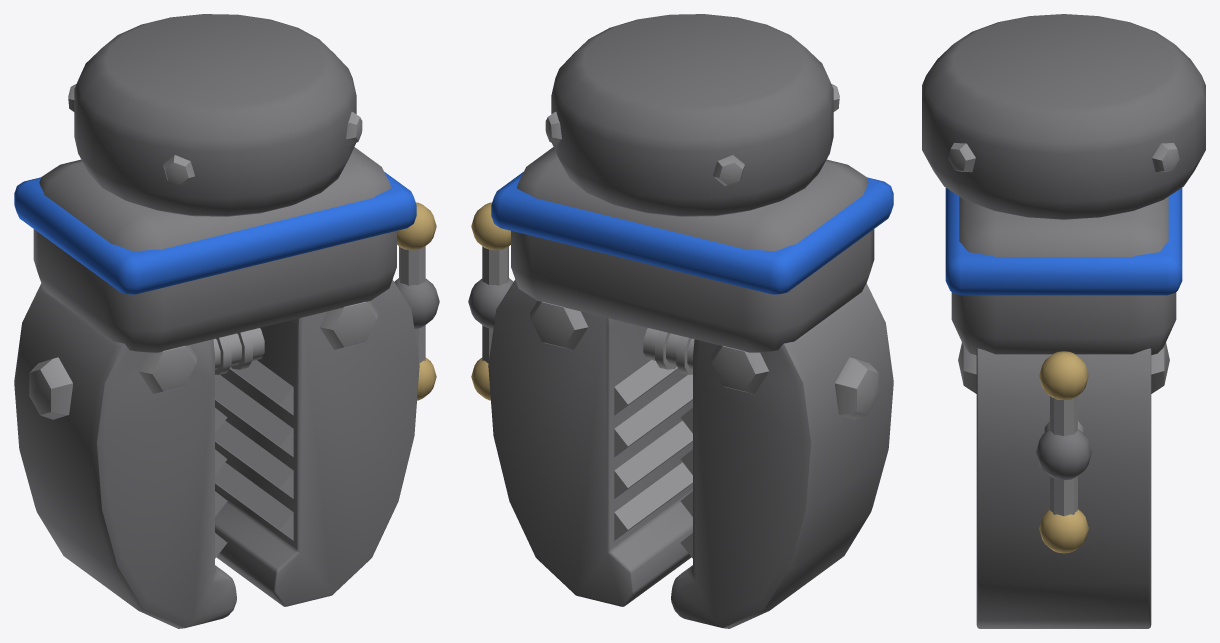
File: Kit_Hand_Clamp.glb
The picture shows the model from 3 angles, left to right: view 1: azimuth 30°, elevation 25°; view 2: azimuth 150°, elevation 25°; view 3: azimuth 270°, elevation 25°; orthographic projection.
Parts seen in each view (by area): view 1: Kit_Hand_Clamp; view 2: Kit_Hand_Clamp; view 3: Kit_Hand_Clamp.
Part boxes in pixels (x1,y1,x2,y2): Kit_Hand_Clamp: (14, 14, 439, 628); Kit_Hand_Clamp: (468, 14, 893, 628); Kit_Hand_Clamp: (922, 14, 1205, 628).
Size of the model in its own units: 0.151 by 0.188 by 0.0911.
